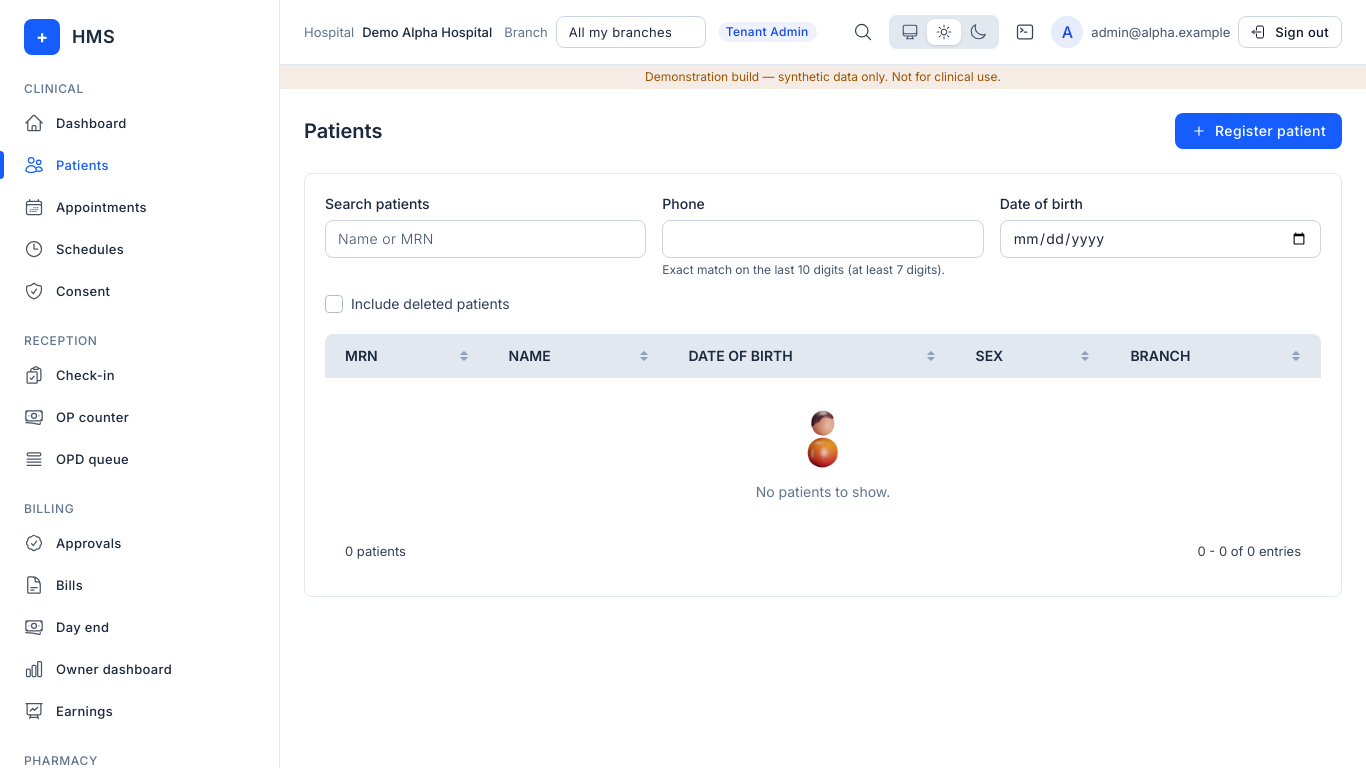
Scenario: patient search by phone and date of birth › lets a tenant admin include deleted patients (flagged) and restore one
Expected: the cell with test id "patients-empty" is shown, top-left (325, 378), bottom-right (1321, 526)
Click the checkbox labelled "Include deleted patients": (334,304) top-left (325, 295), bottom-right (343, 313)
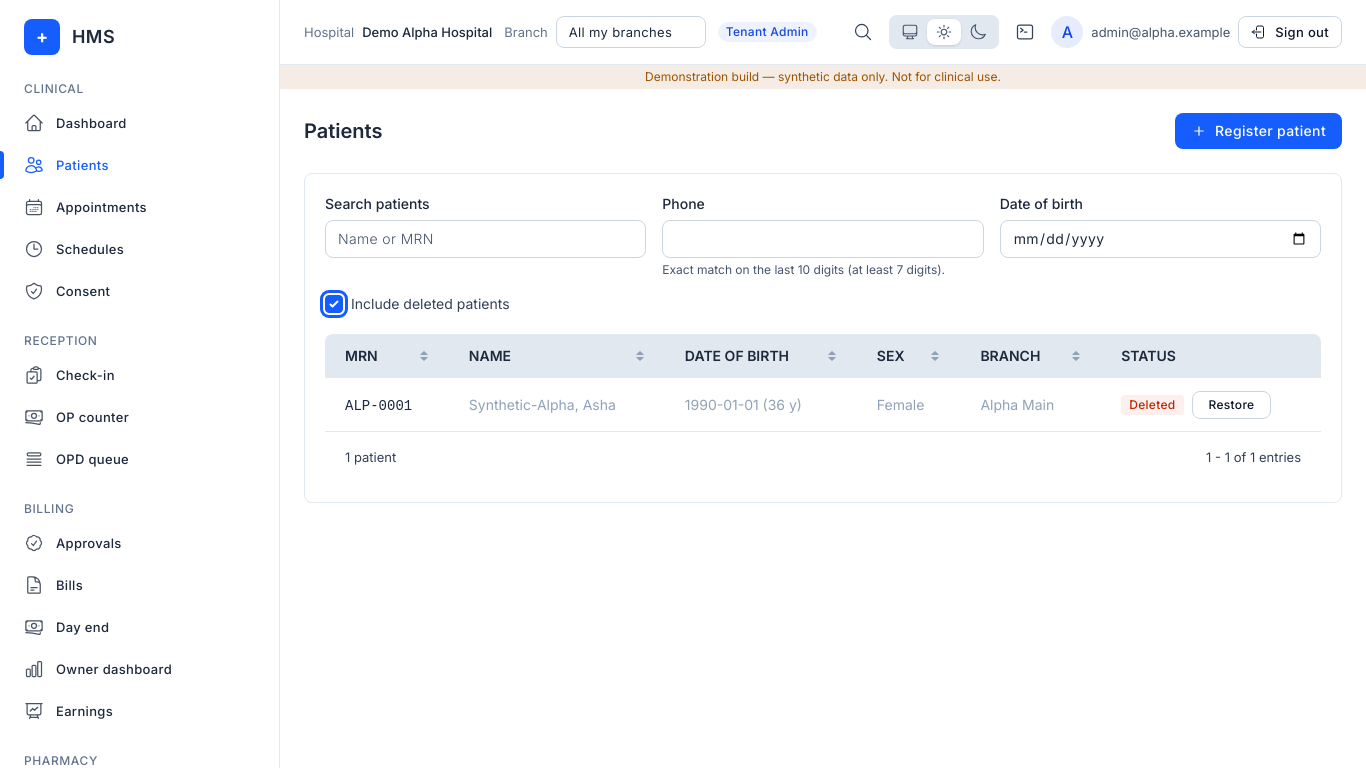
Expected: the text "Deleted" is shown, top-left (1121, 395), bottom-right (1184, 415)
Click the button with aria-label "Restore ALP-0001": (1232,405) top-left (1192, 391), bottom-right (1272, 419)
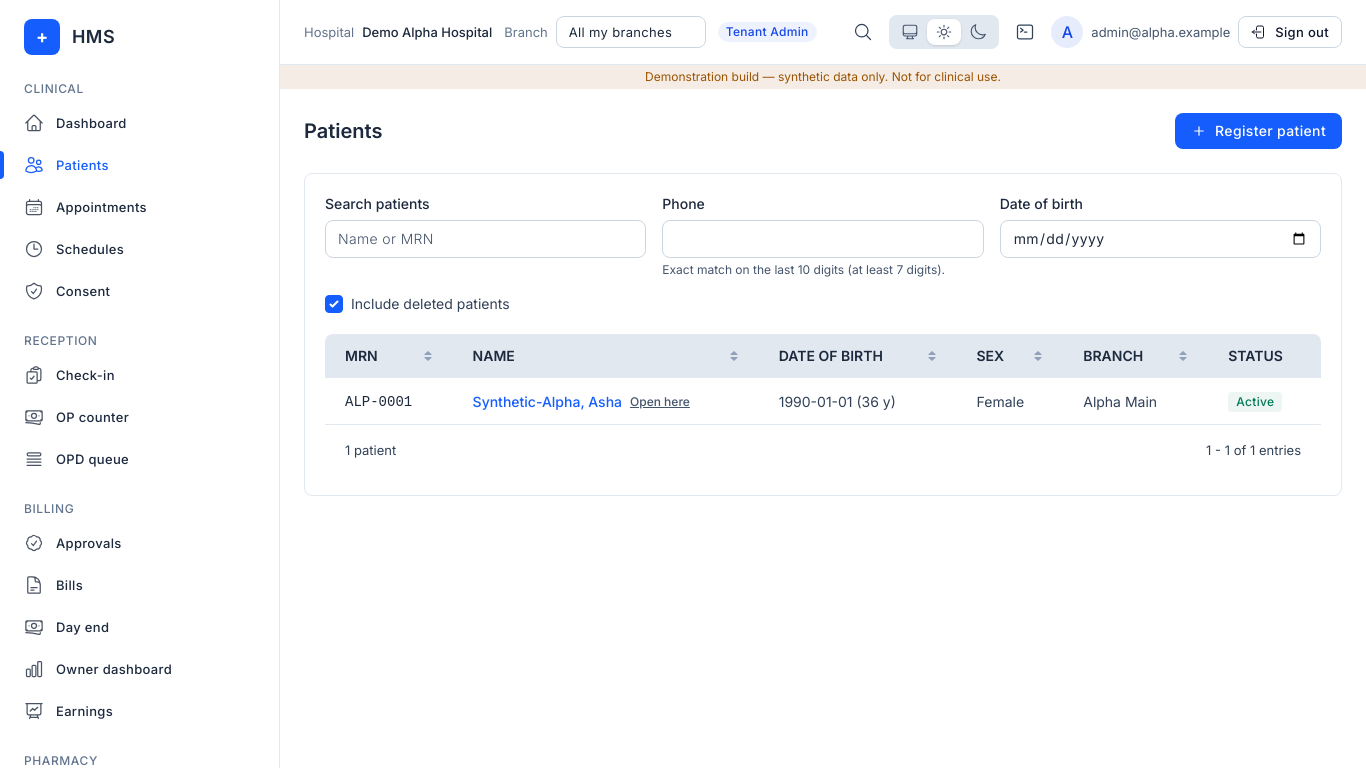
Expected: the text with test id "patient-deleted-badge" is gone
Expected: the text "Active" is shown, top-left (1228, 392), bottom-right (1282, 412)
